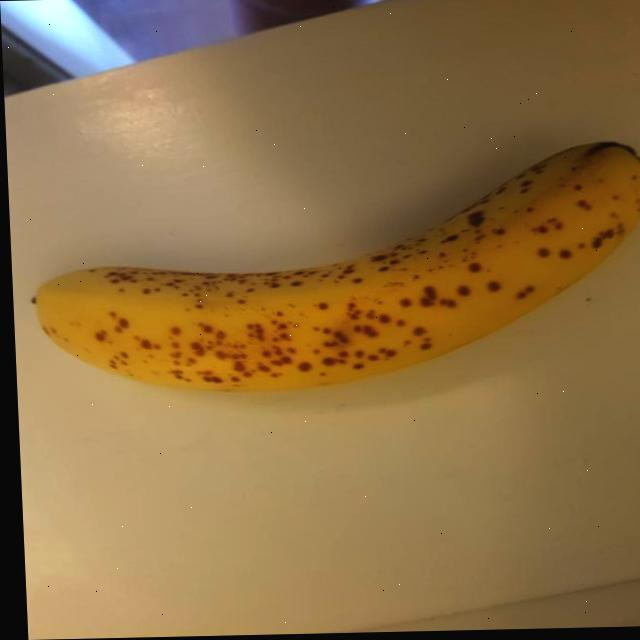banana: (21, 134, 640, 398)
